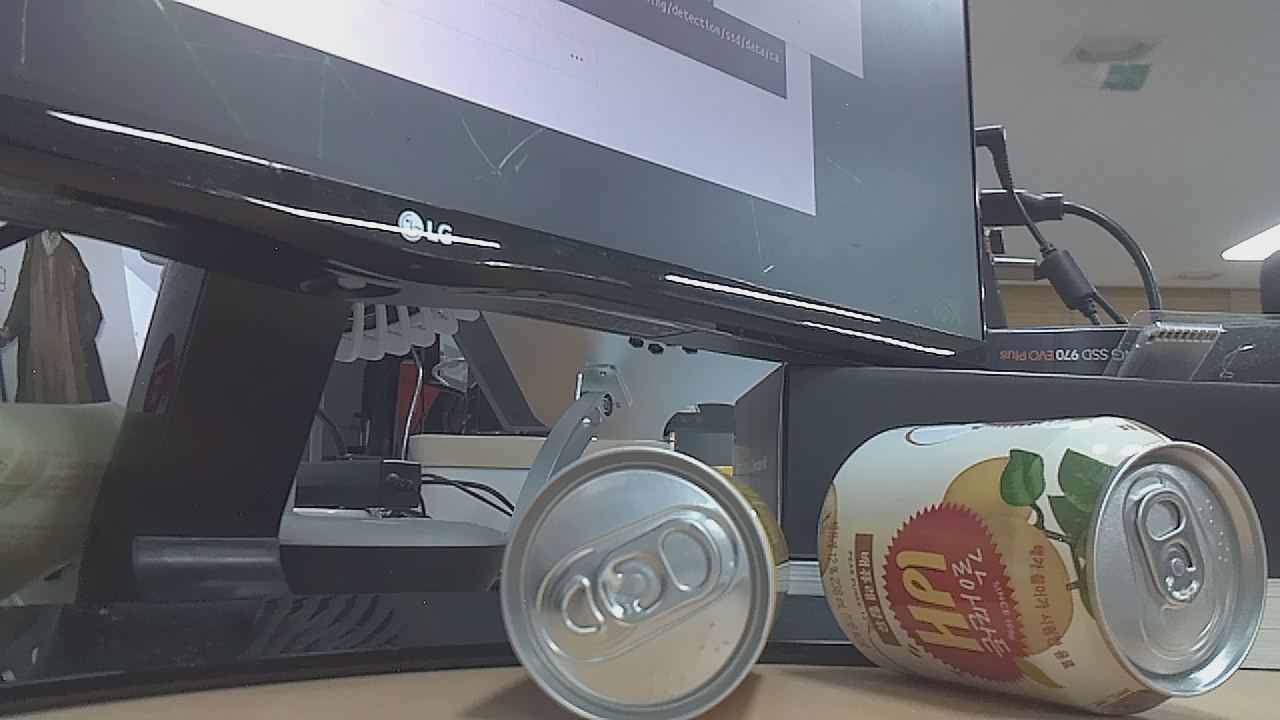IdH (pear juice): (815, 406, 1278, 718)
jetty: (466, 441, 805, 720)
